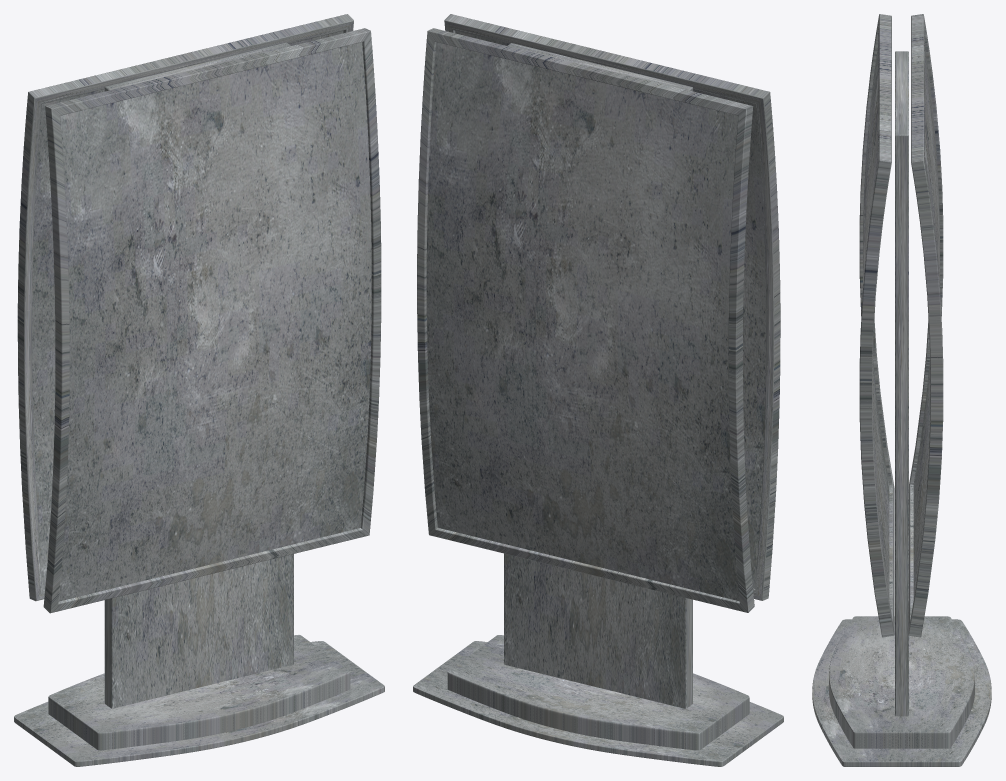
Rendered from banner_b.gltf.
3 renders of one model, left to right at view 1: azimuth 30°, elevation 25°; view 2: azimuth 150°, elevation 25°; view 3: azimuth 270°, elevation 25°, orthographic. The views are drawn at different scales.
Visible parts, largest first — view 1: imageContainer, StandB; view 2: imageContainer, StandB; view 3: StandB, imageContainer.
Boxes of the visible parts, <box> form: imageContainer: <box>59,42,371,601</box>; StandB: <box>14,14,384,766</box>; imageContainer: <box>426,42,739,600</box>; StandB: <box>413,14,783,766</box>; StandB: <box>812,14,991,766</box>; imageContainer: <box>863,48,939,287</box>.
Bounding box in the file's own units: 86.67 × 167 × 44.68.
1 material, 1 textured.
